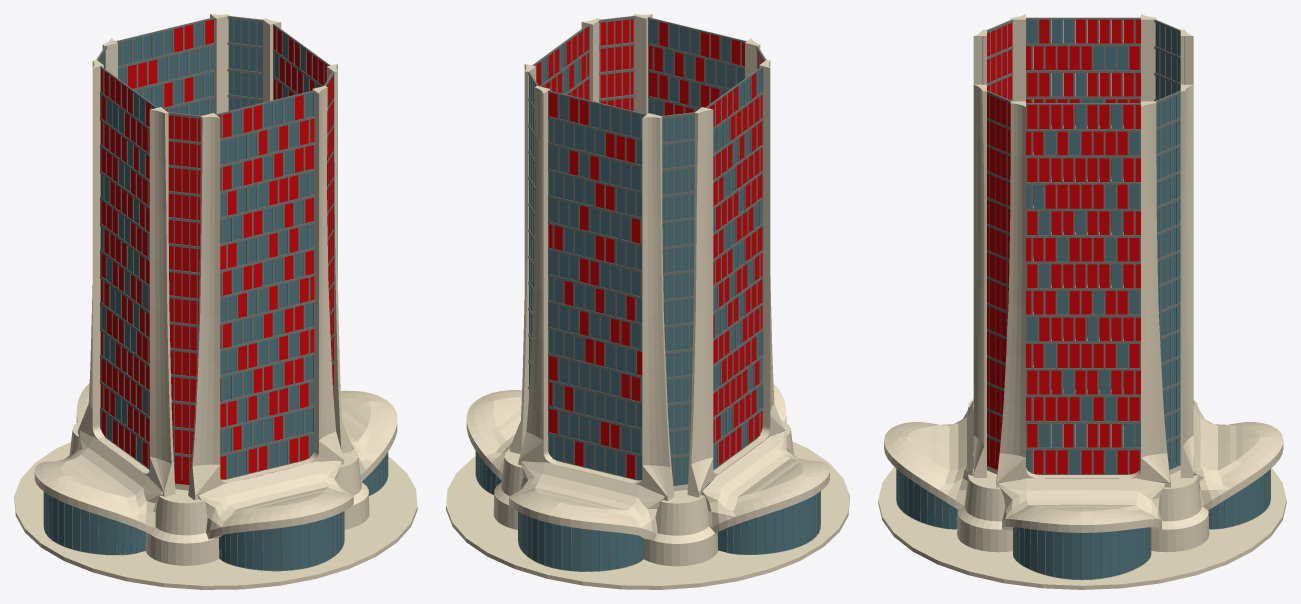
The model's file is stamfordtowerfinalized.glb.
3 views of the same model, side by side, from view 1: azimuth 30°, elevation 25°; view 2: azimuth 150°, elevation 25°; view 3: azimuth 270°, elevation 25° (orthographic).
Parts seen in each view (by area): view 1: orig.004, Cube.007, windows1.002, Circle, orig.003, bottomwindow, Plane.003, Cube.002, BezierCircle.002, windows2.005, windows2.006, BezierCircle.008 (+20 smaller); view 2: orig.001, windows1.003, Cube.005, orig.003, Circle, bottomwindow, Plane.002, Cube.002, BezierCircle.011, windows2.008, windows2.007, BezierCircle.008 (+19 smaller); view 3: windows1, orig.002, Cube.003, Circle, bottomwindow, windows2.001, windows2.002, BezierCircle.005, Plane, Plane.001, orig.001, orig.004 (+16 smaller).
Part boxes in pixels (x1,y1,x2,y2): orig.004: (188, 85, 344, 500); Cube.007: (216, 90, 314, 479); windows1.002: (218, 95, 314, 479); Circle: (14, 442, 417, 589); orig.003: (78, 60, 175, 496); bottomwindow: (44, 452, 387, 570); Plane.003: (168, 115, 200, 484); Cube.002: (100, 66, 157, 469); BezierCircle.002: (198, 460, 353, 539); windows2.005: (220, 92, 314, 478); windows2.006: (220, 102, 314, 475); BezierCircle.008: (34, 431, 162, 533); orig.001: (518, 86, 674, 500); windows1.003: (548, 95, 644, 480); Cube.005: (548, 90, 646, 480); orig.003: (687, 59, 784, 497); Circle: (446, 441, 849, 589); bottomwindow: (476, 452, 820, 571); Plane.002: (662, 115, 694, 485); Cube.002: (705, 66, 763, 469); BezierCircle.011: (509, 461, 664, 540); windows2.008: (548, 92, 642, 479); windows2.007: (548, 103, 642, 476); BezierCircle.008: (701, 430, 829, 533); windows1: (1026, 105, 1140, 474); orig.002: (996, 101, 1170, 487); Cube.003: (1026, 103, 1140, 474); Circle: (878, 424, 1286, 589); bottomwindow: (896, 424, 1270, 579); windows2.001: (1026, 105, 1140, 474); windows2.002: (1026, 105, 1140, 474); BezierCircle.005: (999, 478, 1164, 532); Plane: (987, 94, 1010, 469); Plane.001: (1156, 94, 1180, 469); orig.001: (1180, 29, 1193, 477); orig.004: (973, 29, 986, 477).
Bounding box in the file's own units: 10.76 × 12.89 × 10.76.
